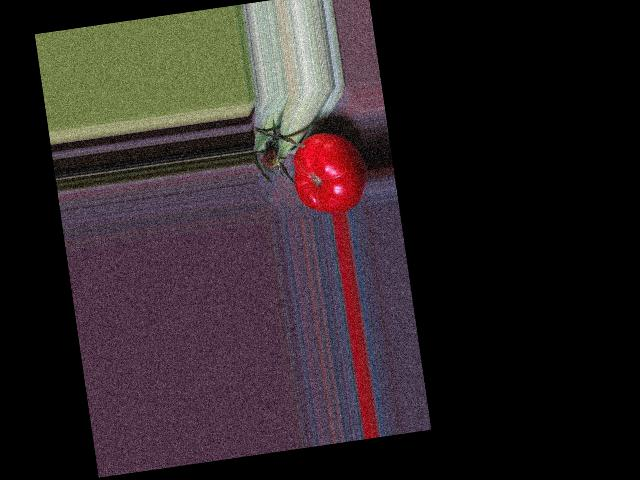tomato: (288, 127, 372, 217)
